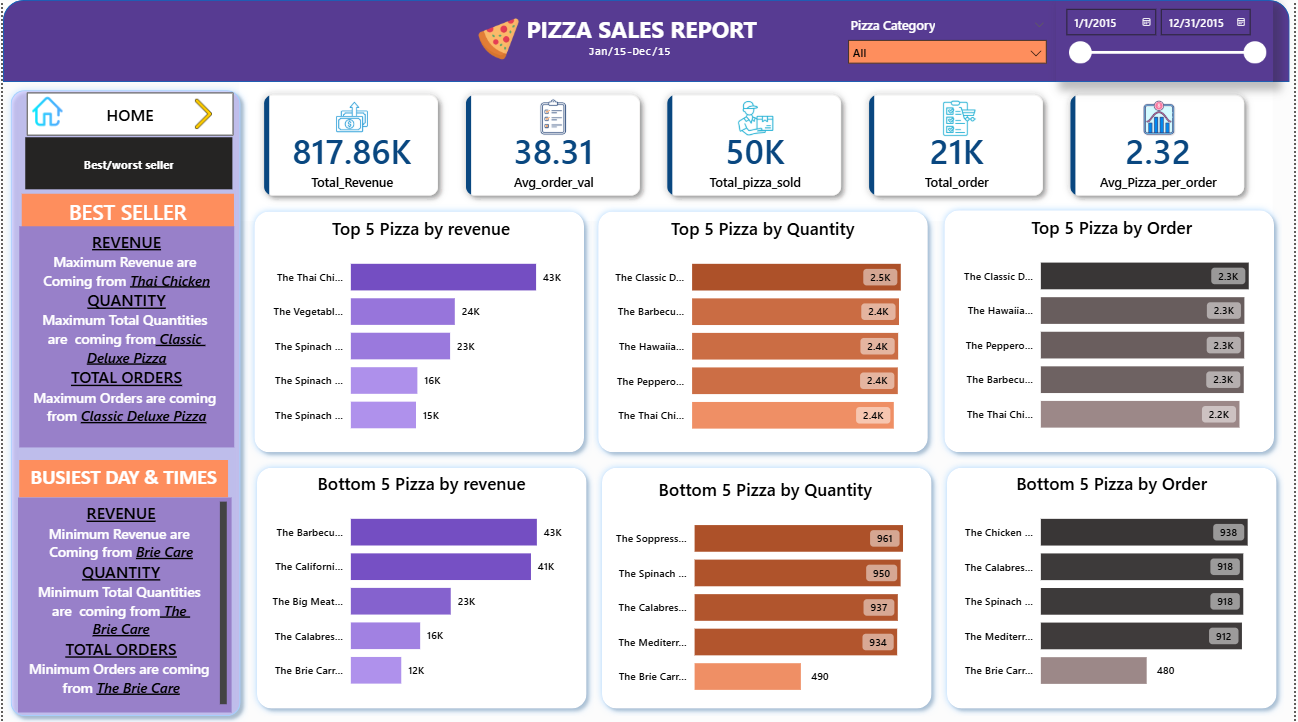

Layout of this report page (visuals, bound fields, positions):
{"tool":"powerbi","page":{"name":"Best/worst seller","canvas":[1500,840],"ordinal":1},"visuals":[{"type":"group","id":"g1","title":"Group 1","box":[273.8,81.5,1198.5,175.4],"z":0},{"type":"cardVisual","fields":{"Data":["pizza_sales.Total_Revenue","pizza_sales.Avg_order_val","pizza_sales.Total_pizza_sold","pizza_sales.Total_order","pizza_sales.Avg_Pizza_per_order"]},"box":[273.8,81.5,1200,175],"z":0,"group":"g1"},{"type":"group","id":"g2","title":"Group 3","box":[27.7,107.7,240,50.8],"z":0,"group":"g7"},{"type":"pageNavigator","box":[27.7,107.7,240,50.8],"z":0,"group":"g2"},{"type":"shape","box":[0,0,1493.8,95.4],"z":1000},{"type":"image","box":[27.7,112.3,47.7,35.4],"z":1000,"group":"g7"},{"type":"image","box":[212.3,115.4,41.5,35.4],"z":1000,"group":"g2"},{"type":"image","box":[366.8,115.6,75.8,42.3],"z":1000,"group":"g1"},{"type":"textbox","box":[596.5,10.2,290.3,49.3],"z":2000},{"type":"image","box":[600.3,115.6,75.6,42.2],"z":2000,"group":"g1"},{"type":"textbox","box":[674.8,45,155.3,30.5],"z":3000},{"type":"image","box":[835.5,115.7,75.9,42.3],"z":3000,"group":"g1"},{"type":"image","box":[532.6,20.3,85.6,49.3],"z":4000},{"type":"image","box":[1072.7,115.7,75.9,42.3],"z":4000,"group":"g1"},{"type":"image","box":[1304.6,116.3,75.6,42.7],"z":5000,"group":"g1"},{"type":"shape","box":[283,236.6,400.6,297.5],"z":5000},{"type":"group","id":"g3","title":"Group 2","box":[0,95.4,284.6,744.6],"z":6000},{"type":"slicer","fields":{"Values":["pizza_sales.pizza_category"]},"box":[970.9,14.5,251.1,61],"z":7000},{"type":"slicer","fields":{"Values":["pizza_sales.order_date"]},"box":[1221.5,0,252.3,95.4],"z":8000},{"type":"shape","box":[0,95.4,284.6,744.6],"z":8000,"group":"g3"},{"type":"shape","box":[682.1,236.6,400.6,297.5],"z":9000},{"type":"shape","box":[1084.1,235.1,400.6,299],"z":10000},{"type":"shape","box":[285.9,534.1,400.6,297.5],"z":11000},{"type":"shape","box":[686.5,534.1,400.6,297.5],"z":12000},{"type":"shape","box":[1087,534.1,400.6,297.5],"z":13000},{"type":"barChart","title":"Top 5 Pizza by revenue","fields":{"Category":["pizza_sales.pizza_name"],"Y":["pizza_sales.Total_Revenue"]},"box":[296.1,251.1,378.8,268.5],"z":14000},{"type":"barChart","title":"Bottom 5 Pizza by revenue","fields":{"Category":["pizza_sales.pizza_name"],"Y":["pizza_sales.Total_Revenue"]},"box":[295.9,547.3,379.7,268.9],"z":15000},{"type":"barChart","title":"Top 5 Pizza by Quantity","fields":{"Category":["pizza_sales.pizza_name"],"Y":["Sum(pizza_sales.quantity)"]},"box":[691.9,251.4,379.7,268.9],"z":16000},{"type":"textbox","box":[21.6,224.6,246.2,43.1],"z":17000,"group":"g4"},{"type":"textbox","box":[18.5,533.8,242.4,43.5],"z":17000,"group":"g6"},{"type":"barChart","title":"Bottom 5 Pizza by Quantity","fields":{"Category":["pizza_sales.pizza_name"],"Y":["Sum(pizza_sales.quantity)"]},"box":[694.6,554.1,379.7,268.9],"z":17000},{"type":"barChart","title":"Top 5 Pizza by Order","fields":{"Category":["pizza_sales.pizza_name"],"Y":["pizza_sales.Total_order"]},"box":[1096.9,249.2,380,269.2],"z":18000},{"type":"textbox","box":[18.5,262.1,249.2,256.9],"z":18000,"group":"g4"},{"type":"textbox","box":[17.9,577.4,247.7,249.2],"z":18000,"group":"g5"},{"type":"barChart","title":"Bottom 5 Pizza by Order","fields":{"Category":["pizza_sales.pizza_name"],"Y":["pizza_sales.Total_order"]},"box":[1096.9,547.7,380,269.2],"z":19000},{"type":"group","id":"g4","title":"Group 2","box":[18.5,224.6,249.2,293.8],"z":20000},{"type":"group","id":"g5","title":"Group 2","box":[17.9,577.4,247.7,249.2],"z":21000},{"type":"pageNavigator","box":[26.2,160,240,60],"z":23000},{"type":"group","id":"g6","title":"Group 2","box":[18.5,533.8,243.1,43.1],"z":24000},{"type":"group","id":"g7","title":"Group 4","box":[27.7,107.7,240,50.8],"z":25000}]}

Visuals, with their boxes in screenshot pixels (x1, y1, x2, y2), scaled from the page's 1500x840 canvas onto the 1298x722 screenshot:
"Group 1" group: 237,70,1274,221
cardVisual - pizza_sales.Total_Revenue x pizza_sales.Avg_order_val: 237,70,1275,220
"Group 3" group: 24,93,232,136
pageNavigator: 24,93,232,136
shape: 0,0,1293,82
image: 24,97,65,127
image: 184,99,220,130
image: 317,99,383,136
textbox: 516,9,767,51
image: 519,99,585,136
textbox: 584,39,718,65
image: 723,99,789,136
image: 461,17,535,60
image: 928,99,994,136
image: 1129,100,1194,137
shape: 245,203,592,459
"Group 2" group: 0,82,246,721
slicer - pizza_sales.pizza_category: 840,12,1057,65
slicer - pizza_sales.order_date: 1057,0,1275,82
shape: 0,82,246,721
shape: 590,203,937,459
shape: 938,202,1285,459
shape: 247,459,594,715
shape: 594,459,941,715
shape: 941,459,1287,715
"Top 5 Pizza by revenue" barChart: 256,216,584,447
"Bottom 5 Pizza by revenue" barChart: 256,470,585,702
"Top 5 Pizza by Quantity" barChart: 599,216,927,447
textbox: 19,193,232,230
textbox: 16,459,226,496
"Bottom 5 Pizza by Quantity" barChart: 601,476,930,707
"Top 5 Pizza by Order" barChart: 949,214,1278,446
textbox: 16,225,232,446
textbox: 15,496,230,710
"Bottom 5 Pizza by Order" barChart: 949,471,1278,702
"Group 2" group: 16,193,232,446
"Group 2" group: 15,496,230,710
pageNavigator: 23,138,230,189
"Group 2" group: 16,459,226,496
"Group 4" group: 24,93,232,136
